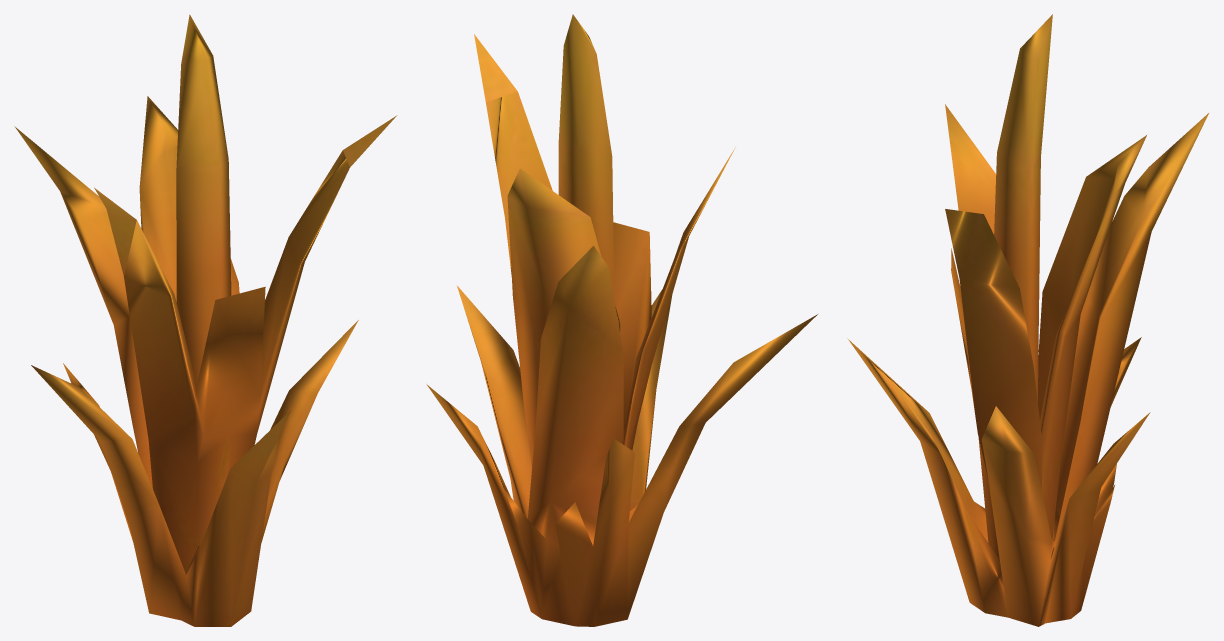
The model's file is grass.glb.
3 renders of one model, left to right at view 1: azimuth 30°, elevation 25°; view 2: azimuth 150°, elevation 25°; view 3: azimuth 270°, elevation 25°, orthographic. The views are drawn at different scales.
Visible parts, largest first — view 1: tripo_node_664b3a68-0d94-4b8e-b3e0-2ed15e3798e4; view 2: tripo_node_664b3a68-0d94-4b8e-b3e0-2ed15e3798e4; view 3: tripo_node_664b3a68-0d94-4b8e-b3e0-2ed15e3798e4.
Boxes of the visible parts, x1,y1,x2,y2 form: tripo_node_664b3a68-0d94-4b8e-b3e0-2ed15e3798e4: [14, 14, 397, 626]; tripo_node_664b3a68-0d94-4b8e-b3e0-2ed15e3798e4: [426, 14, 817, 626]; tripo_node_664b3a68-0d94-4b8e-b3e0-2ed15e3798e4: [847, 14, 1208, 626].
Size of the model in its own units: 0.5046 by 0.8 by 0.4459.
Materials: 1 (1 with a texture image).
